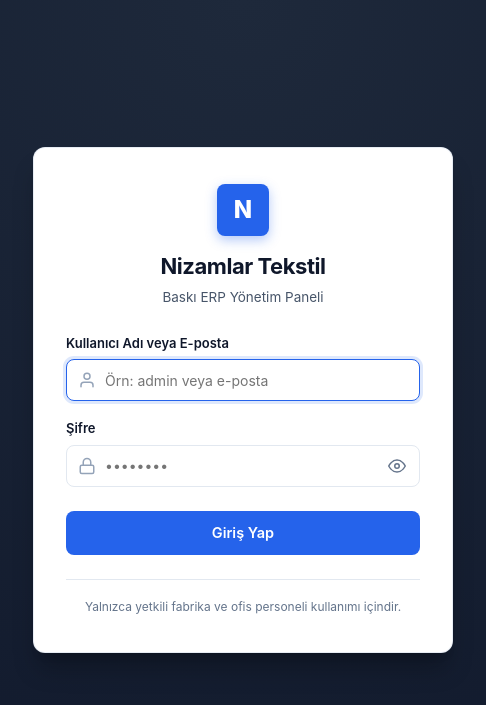
Test: LoginPage › shows Turkish error message when submitting empty fields
What coordinates should you click on to do the following:
click the button "Giriş Yap"
I would click on:
 (243, 533)
Its box is [66,511,420,555].
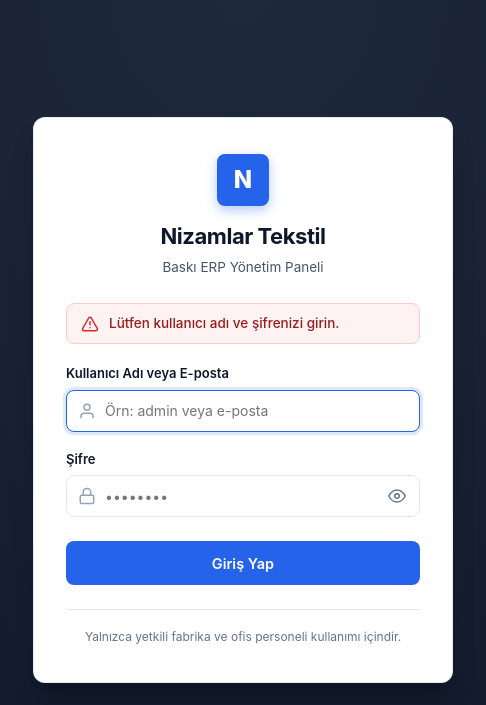
Expected: the text "Lütfen kullanıcı adı ve şifrenizi girin." is shown, [109,314,339,333]
